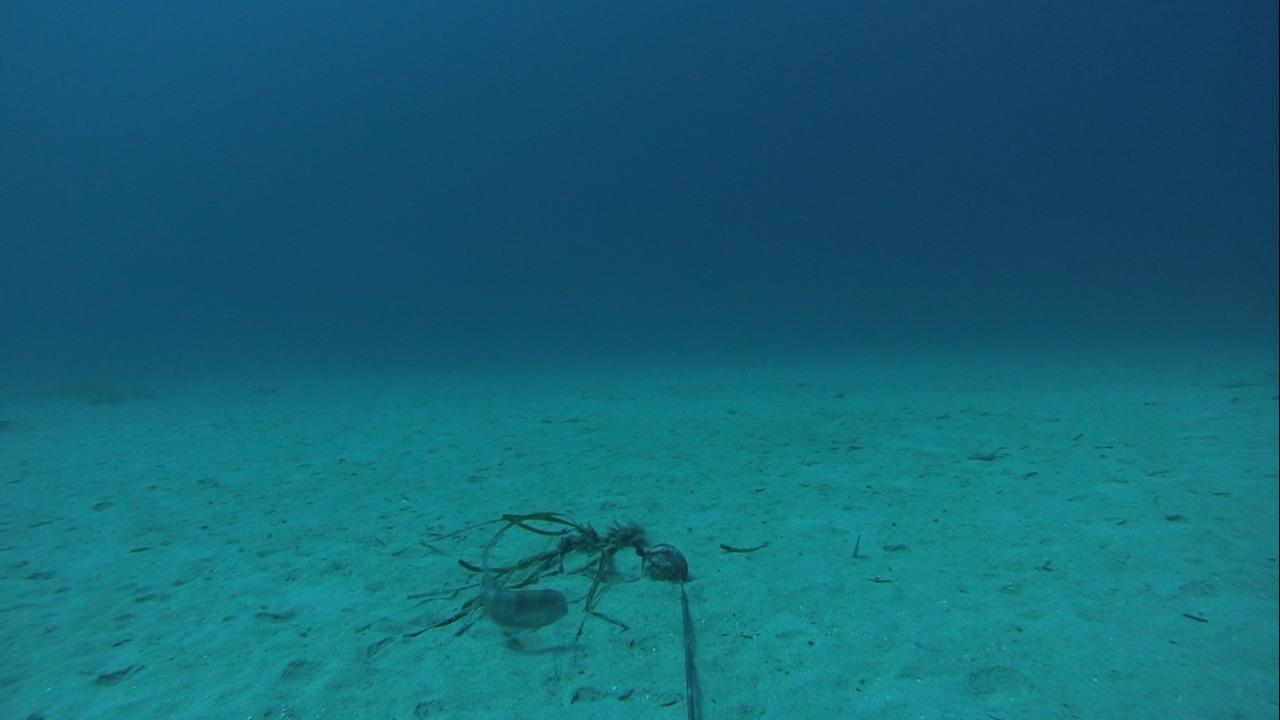raor: (467, 568, 573, 634)
